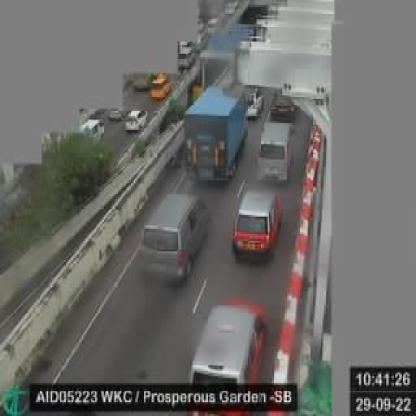Car: (183, 294, 270, 398), (132, 185, 214, 288), (226, 182, 284, 263), (252, 122, 295, 178), (266, 83, 303, 120), (76, 116, 110, 141), (147, 73, 175, 102), (239, 82, 260, 116), (125, 106, 151, 132), (130, 67, 151, 92), (173, 45, 194, 68)
Truck: (182, 80, 248, 184)
